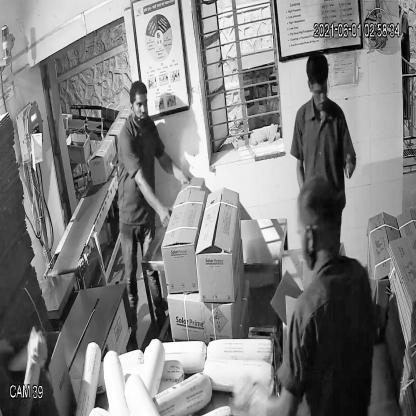no_goggles: (123, 92, 154, 115)
